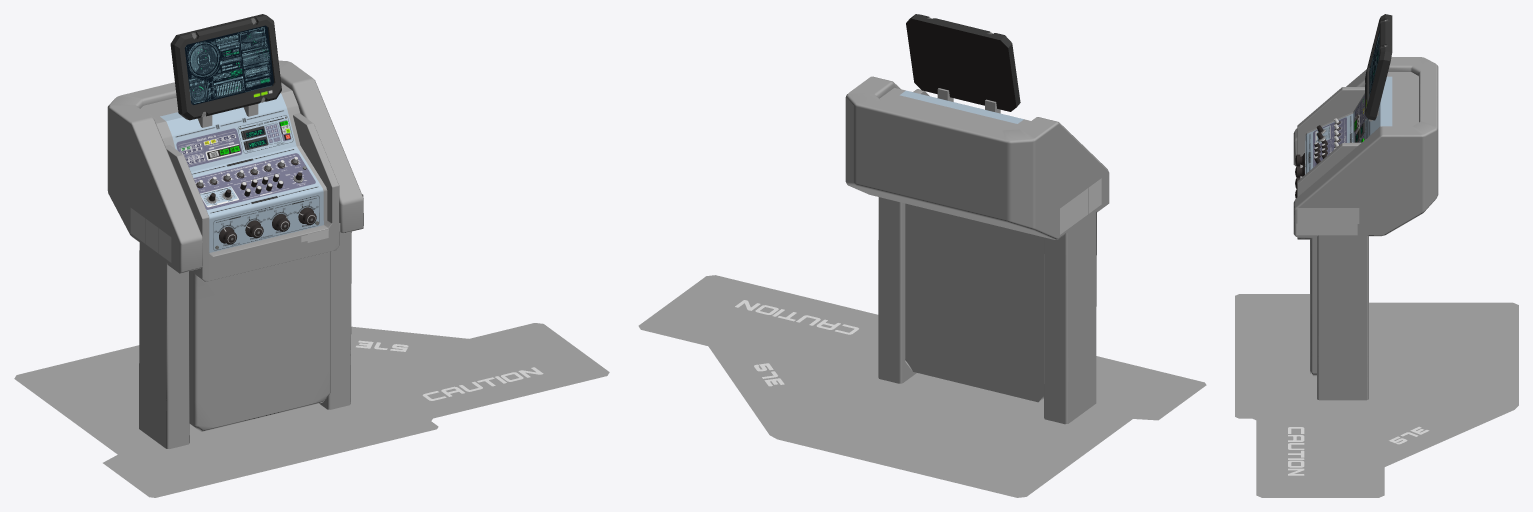
The model's file is Prop_09.fbx.
The picture shows the model from 3 angles, left to right: view 1: azimuth 30°, elevation 25°; view 2: azimuth 150°, elevation 25°; view 3: azimuth 270°, elevation 25°; orthographic projection. The views are drawn at different scales.
Parts seen in each view (by area): view 1: Prop_09, Plane.022, Screen_01.018, LOD_0.044, LOD_0.043, LOD_0.045, LOD_0.041, LOD_0.042, Screen_03.018; view 2: Prop_09, Plane.022, LOD_0.044; view 3: Plane.022, Prop_09, LOD_0.044, LOD_0.043.
Part boxes in pixels (box(x1,y1,x2,y2)): Prop_09: box(107, 60, 363, 448); Plane.022: box(14, 323, 609, 497); Screen_01.018: box(185, 25, 273, 104); LOD_0.044: box(170, 14, 281, 120); LOD_0.043: box(193, 152, 316, 210); LOD_0.045: box(213, 195, 319, 250); LOD_0.041: box(175, 127, 243, 167); LOD_0.042: box(237, 114, 293, 153); Screen_03.018: box(186, 29, 272, 101); Prop_09: box(845, 76, 1109, 424); Plane.022: box(638, 275, 1206, 497); LOD_0.044: box(906, 14, 1020, 111); Plane.022: box(1235, 294, 1518, 497); Prop_09: box(1293, 57, 1438, 400); LOD_0.044: box(1365, 14, 1392, 120); LOD_0.043: box(1313, 117, 1346, 167).
Size of what is drawn, in the model's own units: 2.11 by 1.59 by 1.24.
